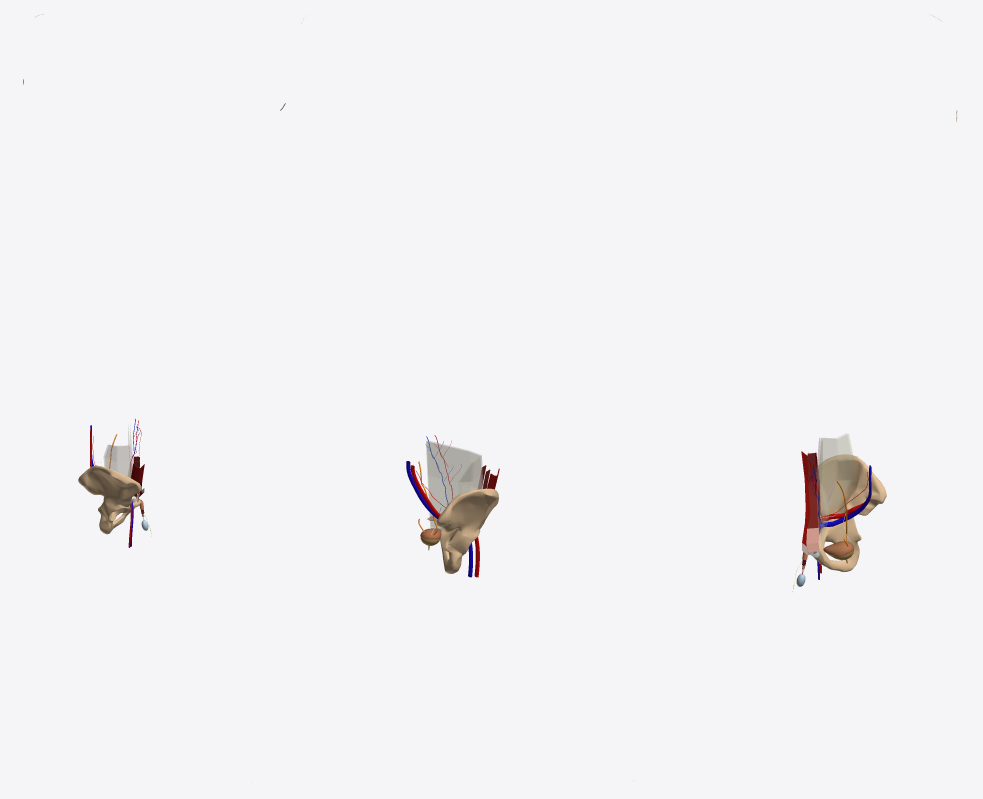
File: Inguinal Canal Draft 2 .fbx
The picture shows the model from 3 angles, left to right: view 1: azimuth 90°, elevation 25°; view 2: azimuth 150°, elevation 25°; view 3: azimuth 270°, elevation 25°; orthographic projection. The views are drawn at different scales.
Visible parts, largest first — view 1: Object_38, Transversalis Fascia, Parietal Peritoneum; view 2: Object_38, Parietal Peritoneum, Transversalis Fascia; view 3: Object_38, Parietal Peritoneum, Transversalis Fascia, IO & TA, External Oblique.
Boxes of the visible parts, box(x1,y1,x2,y2) form: Object_38: box(78, 465, 141, 534); Transversalis Fascia: box(105, 428, 132, 477); Parietal Peritoneum: box(104, 427, 131, 477); Object_38: box(436, 488, 498, 573); Parietal Peritoneum: box(426, 441, 481, 531); Transversalis Fascia: box(427, 440, 483, 529); Object_38: box(813, 454, 886, 571); Parietal Peritoneum: box(818, 434, 853, 546); Transversalis Fascia: box(816, 433, 851, 546); IO & TA: box(807, 453, 819, 528); External Oblique: box(801, 451, 820, 545).
Size of the model in its own units: 831 by 2834 by 890.
